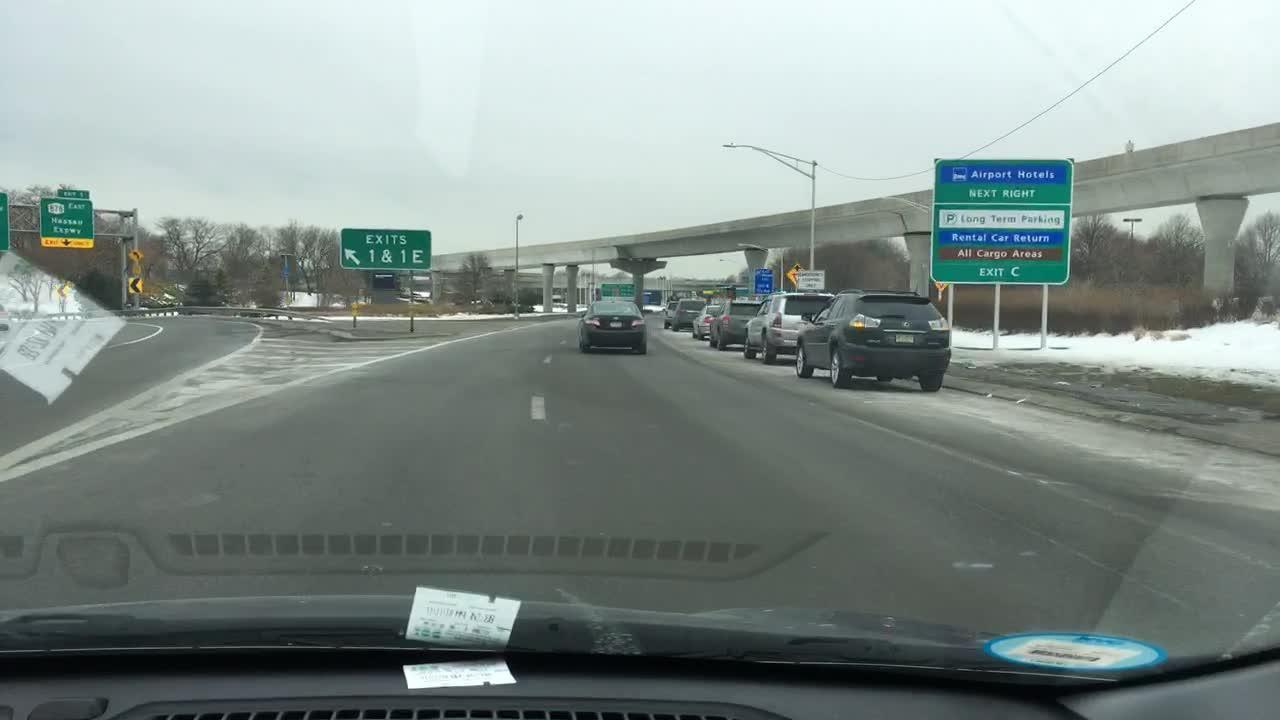lexus: (897, 316, 913, 334)
